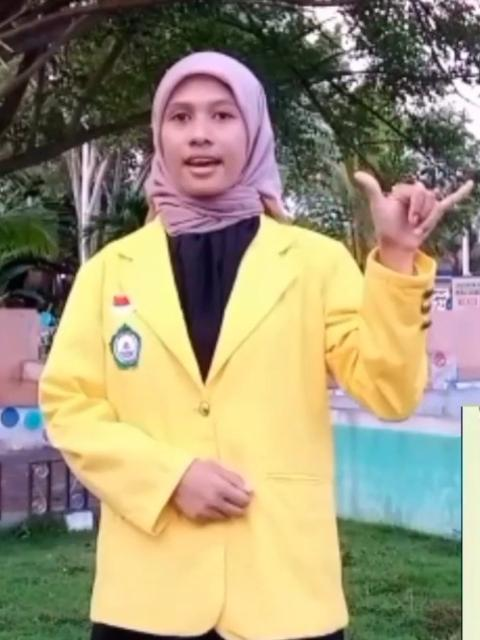Y: (352, 166, 477, 250)
